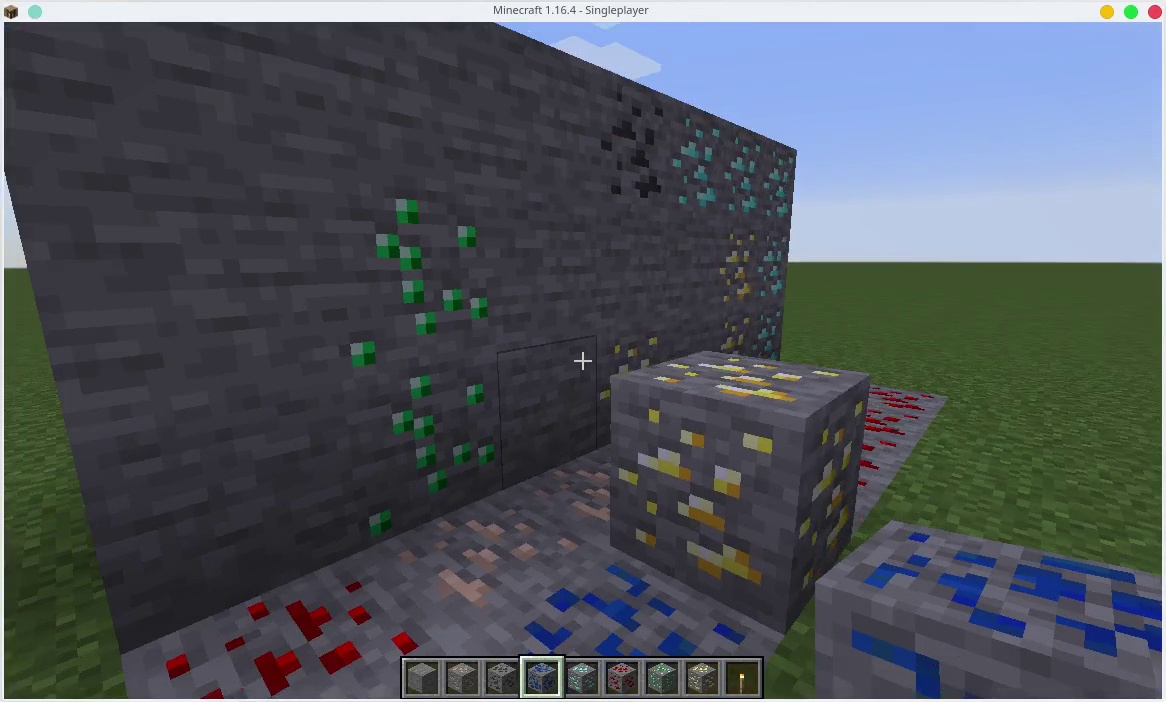gold: (624, 362, 857, 586), (719, 224, 753, 302), (609, 343, 664, 371), (684, 664, 718, 695), (718, 322, 754, 350)
